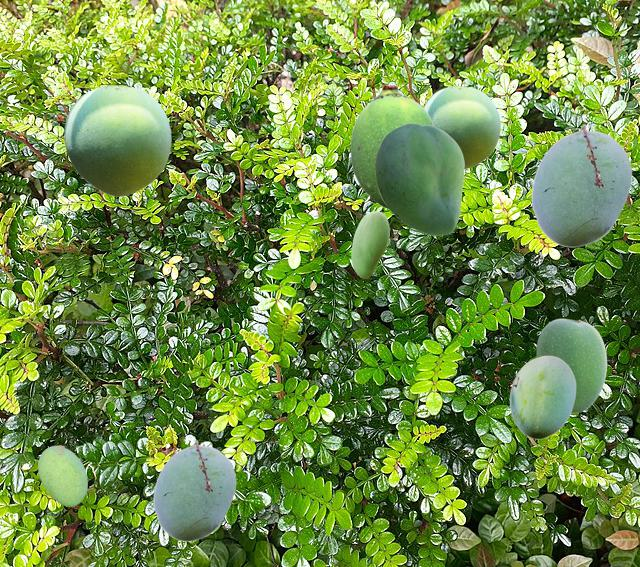green_mango: (531, 124, 631, 246), (64, 84, 170, 195), (350, 84, 433, 209), (375, 123, 463, 234), (153, 440, 235, 540), (536, 318, 606, 412), (424, 85, 499, 168), (509, 355, 575, 438), (38, 445, 86, 505), (351, 211, 388, 277)
